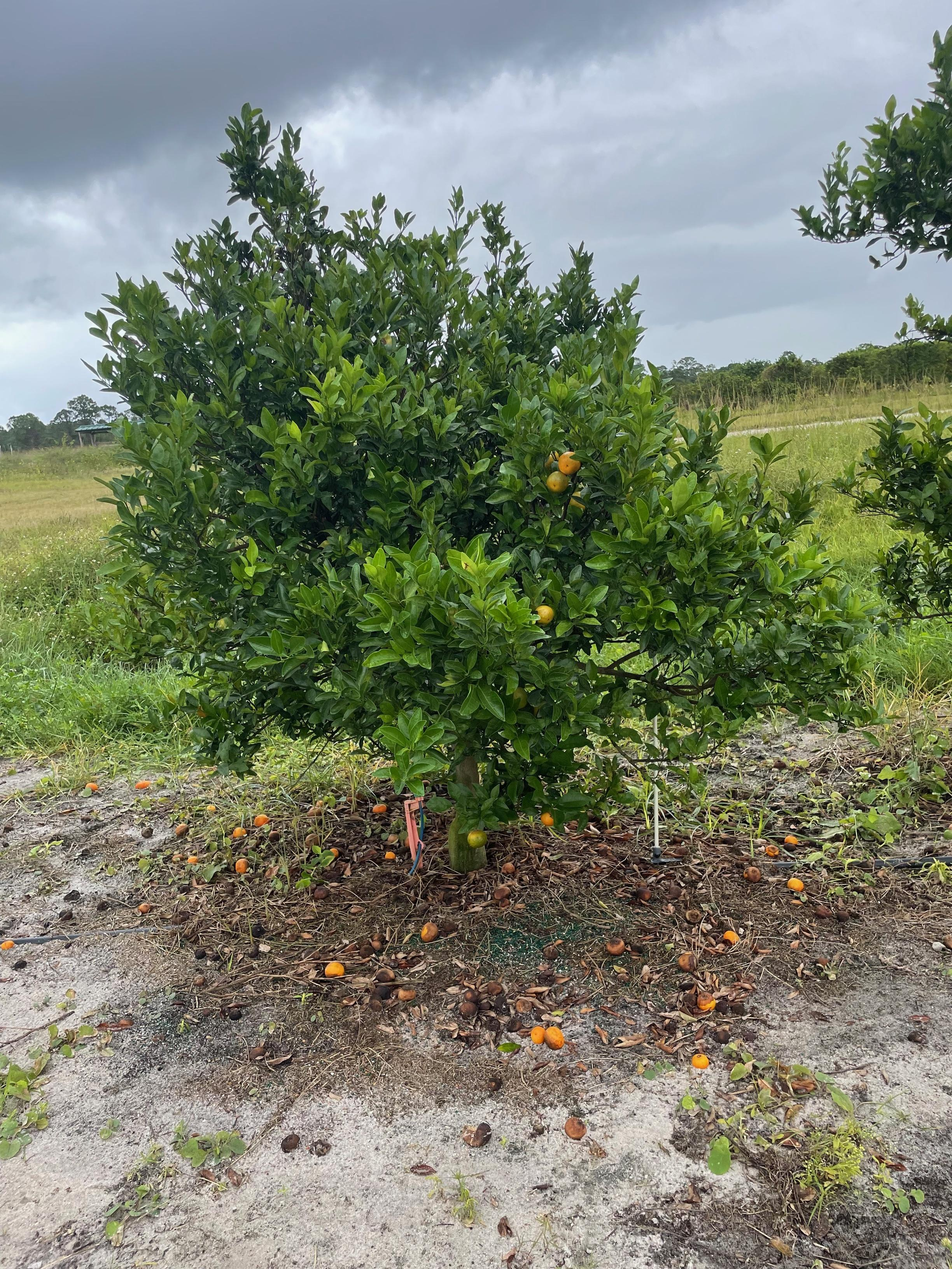fruit_on_ground: (556, 450, 583, 477), (564, 488, 590, 515), (504, 684, 530, 711), (545, 470, 571, 495), (533, 603, 557, 627), (466, 828, 490, 850), (539, 447, 561, 470), (539, 809, 556, 827)
fruit_on_tree: (563, 1113, 590, 1142), (677, 951, 700, 973), (695, 990, 718, 1012), (546, 1025, 567, 1049), (418, 920, 440, 942), (323, 959, 347, 979), (604, 935, 626, 955), (482, 977, 502, 996), (396, 983, 416, 1002), (742, 864, 763, 882), (491, 883, 511, 901), (690, 1052, 710, 1070), (375, 966, 397, 982), (367, 994, 387, 1011), (458, 999, 478, 1016), (528, 1025, 545, 1045), (311, 884, 330, 901), (514, 997, 533, 1014), (786, 876, 805, 893), (356, 944, 376, 960), (306, 804, 324, 820), (721, 928, 739, 944), (635, 886, 652, 902), (234, 857, 250, 874), (714, 1028, 730, 1044), (174, 821, 190, 837), (461, 988, 478, 1003), (304, 832, 321, 847), (782, 832, 799, 847), (500, 860, 518, 874), (371, 801, 389, 815), (596, 844, 613, 858), (370, 932, 387, 946), (763, 843, 780, 857), (253, 813, 270, 827), (382, 848, 398, 862), (231, 824, 247, 838), (814, 904, 831, 917), (773, 756, 788, 770), (1, 937, 16, 951), (138, 900, 152, 914), (326, 845, 341, 858), (134, 778, 150, 790), (268, 829, 282, 842), (86, 780, 100, 792), (204, 802, 217, 814), (187, 853, 200, 865), (314, 797, 327, 808), (172, 851, 185, 862)
